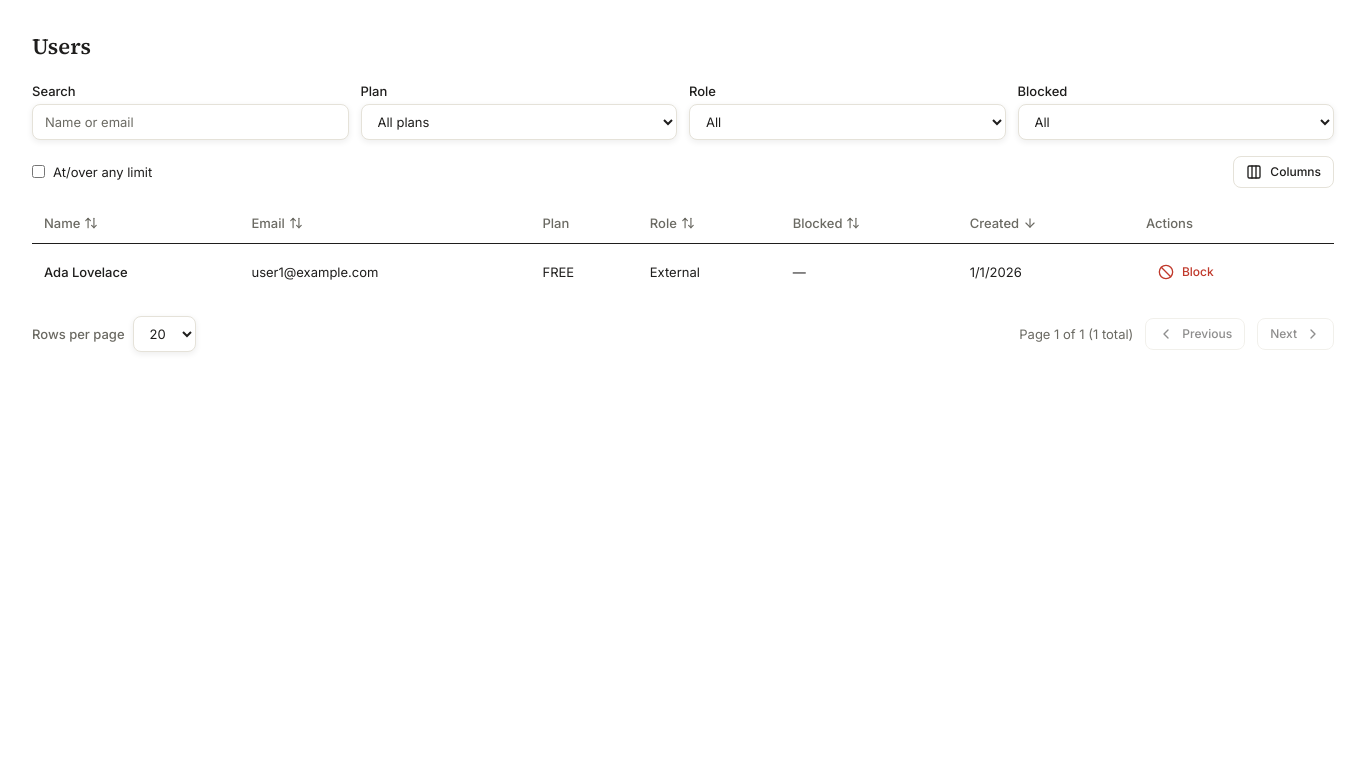
Scenario: AdminUsersPage › opens the User panel with info, Plan, and quotas when a row is clicked
Click the text "Ada Lovelace": click(86, 272) x1=32 y1=244 x2=240 y2=300
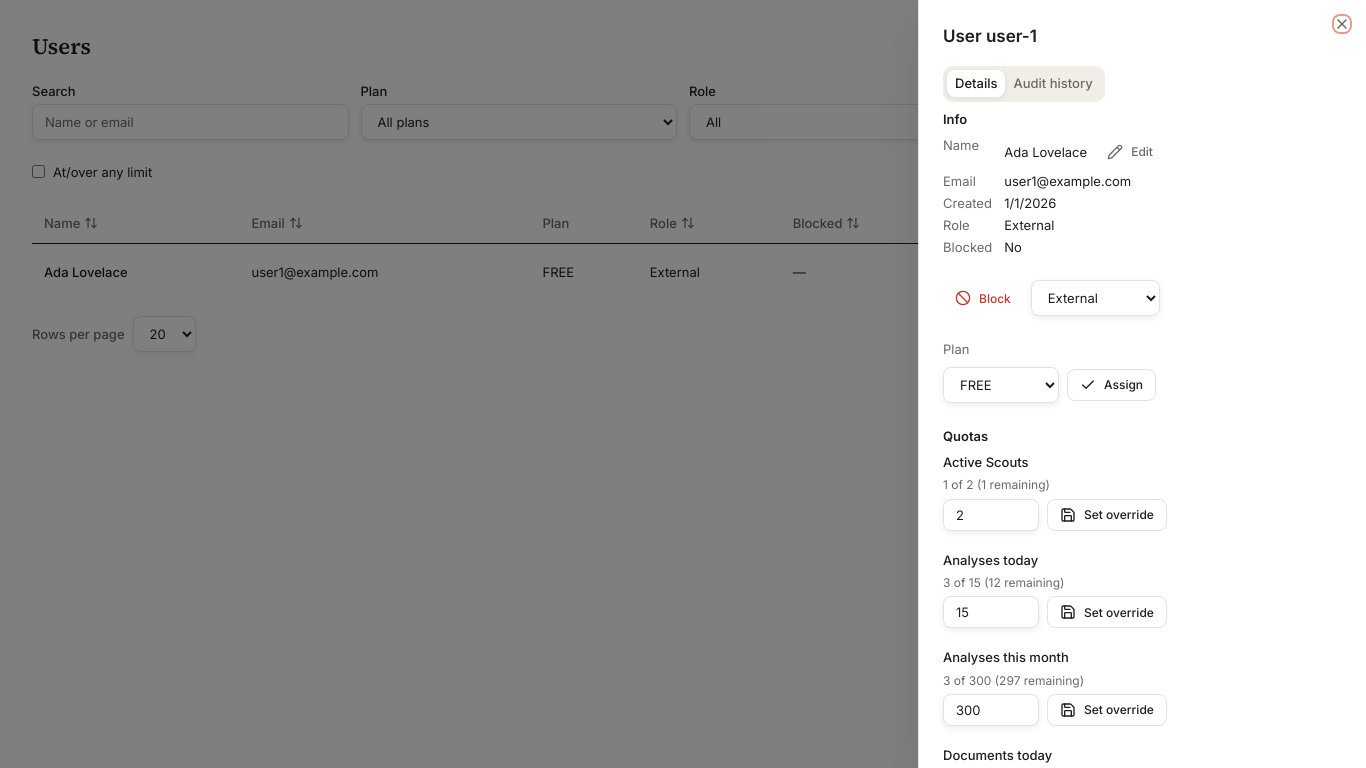
expect the heading "User user-1" is shown: met, box x1=943 y1=26 x2=1037 y2=46
expect the dropdown named "Plan" shows "FREE": met, box x1=943 y1=367 x2=1059 y2=403
expect the text "3 of 15 (12 remaining)" is shown: met, box x1=943 y1=575 x2=1064 y2=590
